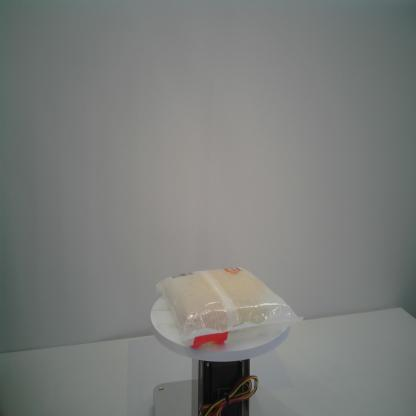Dessert: (153, 263, 305, 354)
